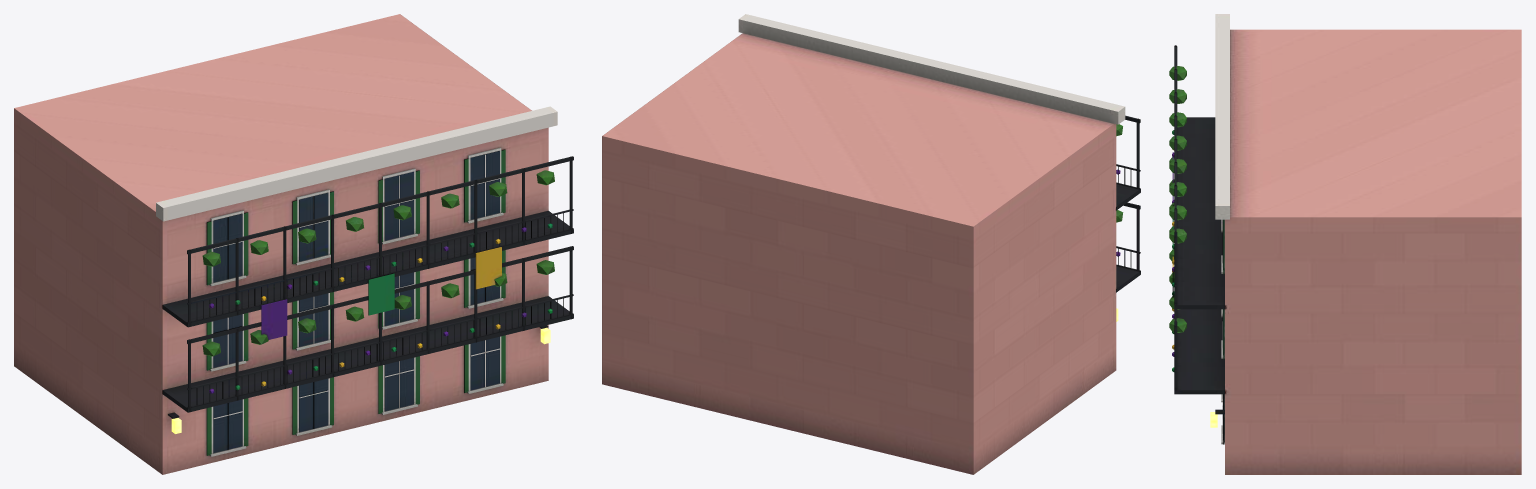
File: casa_criolla.glb
The picture shows the model from 3 angles, left to right: view 1: azimuth 30°, elevation 25°; view 2: azimuth 150°, elevation 25°; view 3: azimuth 270°, elevation 25°; orthographic projection. The views are drawn at different scales.
Parts seen in each view (by area): view 1: casa_criolla; view 2: casa_criolla; view 3: casa_criolla.
Boxes of the visible parts, box(x1,y1,x2,y2) form: casa_criolla: box(14, 14, 573, 474); casa_criolla: box(602, 14, 1140, 474); casa_criolla: box(1169, 14, 1521, 474).
Bounding box in the file's own units: 18.4 × 12.1 × 14.26.
Materials: 1 (1 with a texture image).
